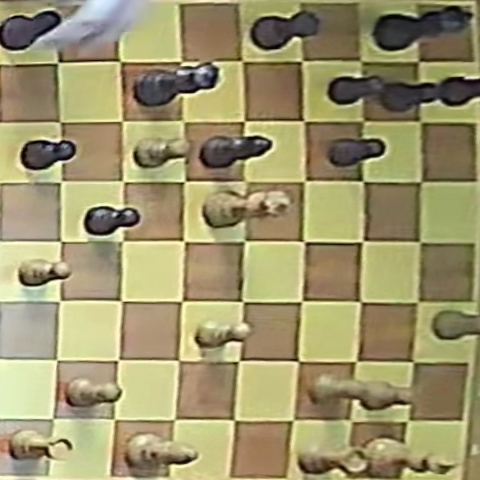black-bishop: (201, 135, 271, 168)
black-king: (375, 6, 472, 52)
black-pawn: (377, 79, 441, 112), (328, 75, 387, 106), (21, 139, 76, 171), (85, 205, 140, 236), (328, 138, 384, 167), (435, 75, 478, 107)
black-queen: (135, 63, 218, 106)
black-rook: (252, 10, 319, 50), (1, 10, 61, 51)
white-bishop: (125, 432, 197, 474), (134, 137, 189, 168)
white-king: (362, 439, 455, 476)
white-pawn: (309, 374, 368, 404), (196, 320, 252, 349), (358, 380, 413, 409), (66, 378, 120, 407), (19, 259, 71, 287), (433, 310, 479, 340)
white-queen: (203, 189, 289, 228)
white-rook: (300, 444, 371, 476), (9, 429, 73, 461)
